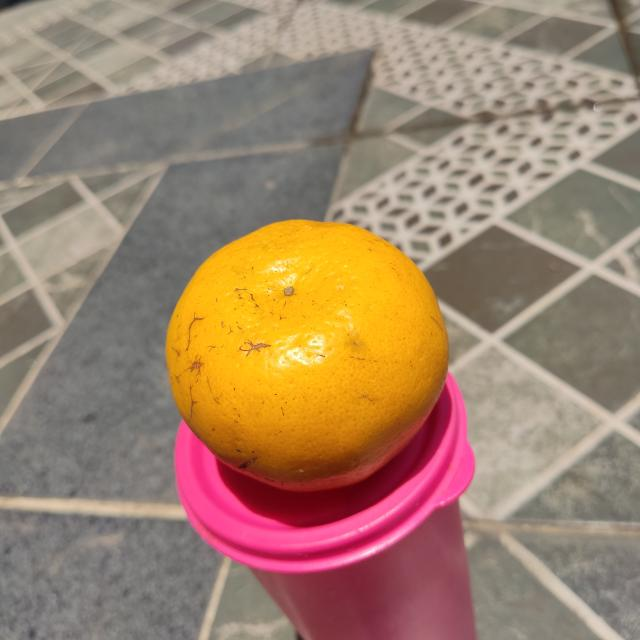orange: (163, 215, 450, 499)
